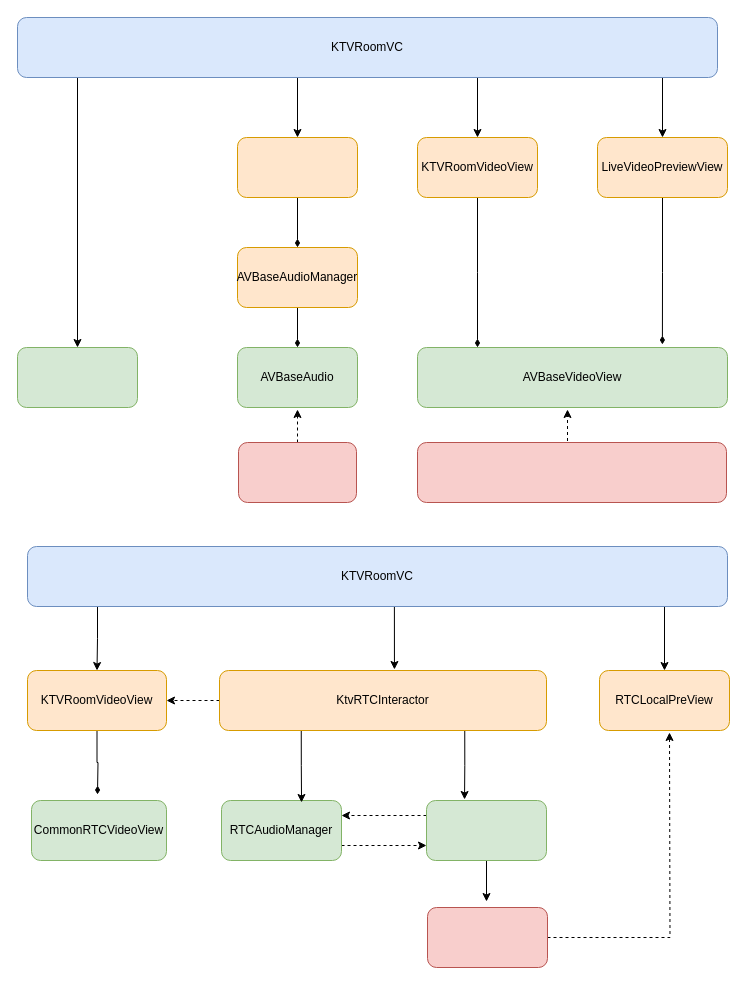
This 747x985 diagram has some shape labels left out. Here are the shapes that lost their labels. From the top down, the centre of each, then its label:
At pixel 297 167: "KTVAudioManager".
At pixel 77 377: "AVRoomManager".
At pixel 297 472: "QAVAudioCtrl".
At pixel 571 472: "QAVVideoCtrl".
At pixel 486 830: "RTCKitManager".
At pixel 487 937: "TMERTCManager".
